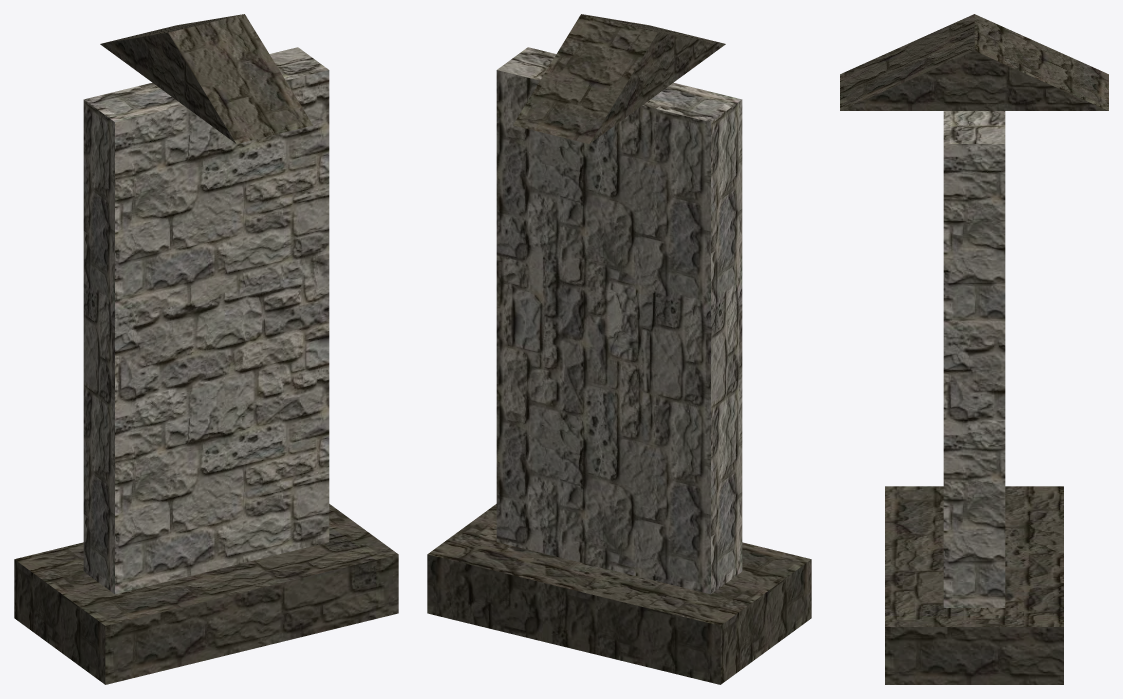
File: stele_01.glb
The picture shows the model from 3 angles, left to right: view 1: azimuth 30°, elevation 25°; view 2: azimuth 150°, elevation 25°; view 3: azimuth 270°, elevation 25°; orthographic projection.
Visible parts, largest first — view 1: stele_01; view 2: stele_01; view 3: stele_01.
Part boxes in pixels (x1,y1,x2,y2): stele_01: (14,14,398,684); stele_01: (427,14,811,684); stele_01: (840,14,1108,684).
Bounding box in the file's own units: 1.3 × 2.51 × 1.05.
Materials: 2 (2 with a texture image).
